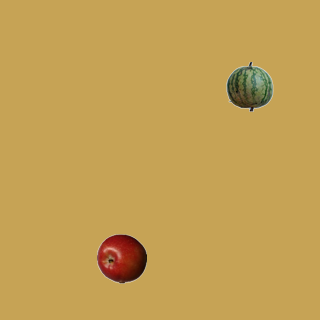Apple Braeburn: (96, 233, 146, 283)
Watermelon: (224, 61, 274, 111)
